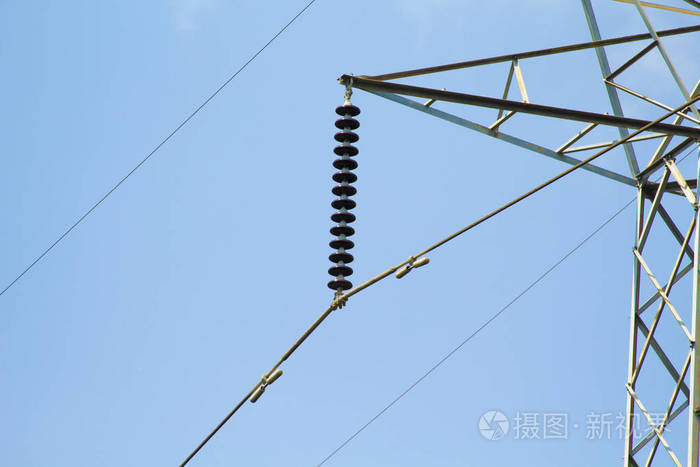insulator: (324, 104, 362, 292)
